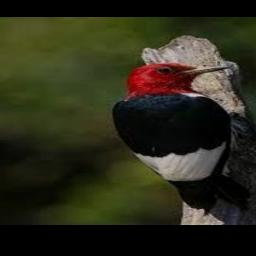Woodpecker: (107, 63, 250, 214)
